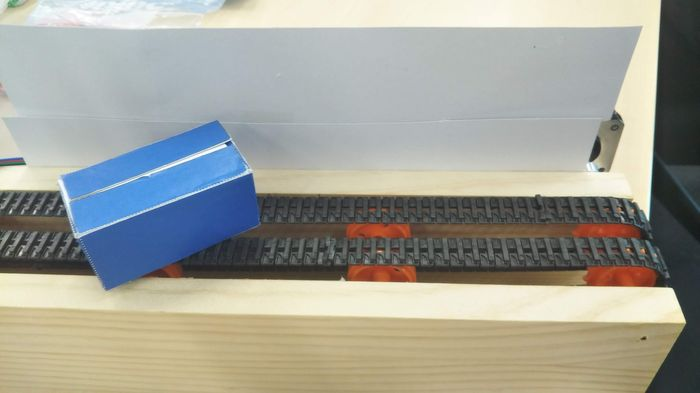box3: (55, 119, 259, 293)
